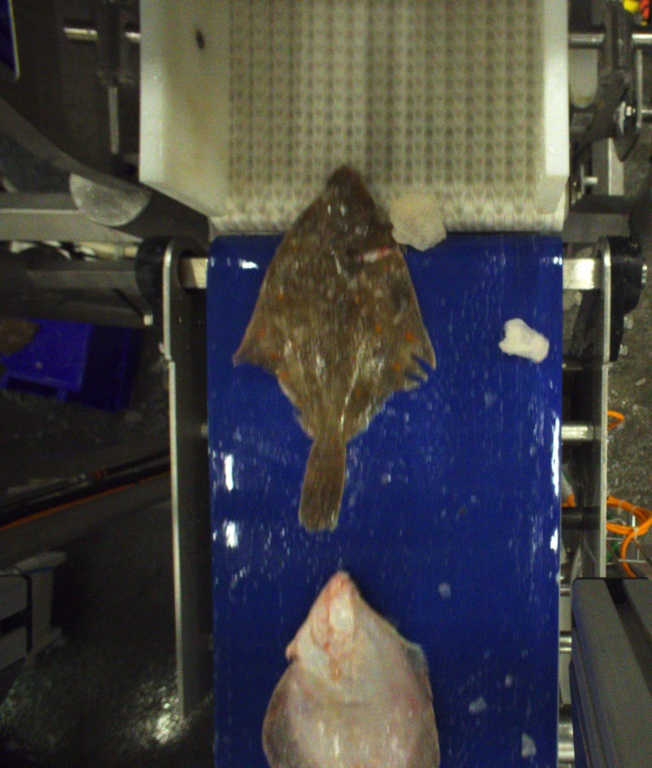PLE: (233, 166, 433, 532)
